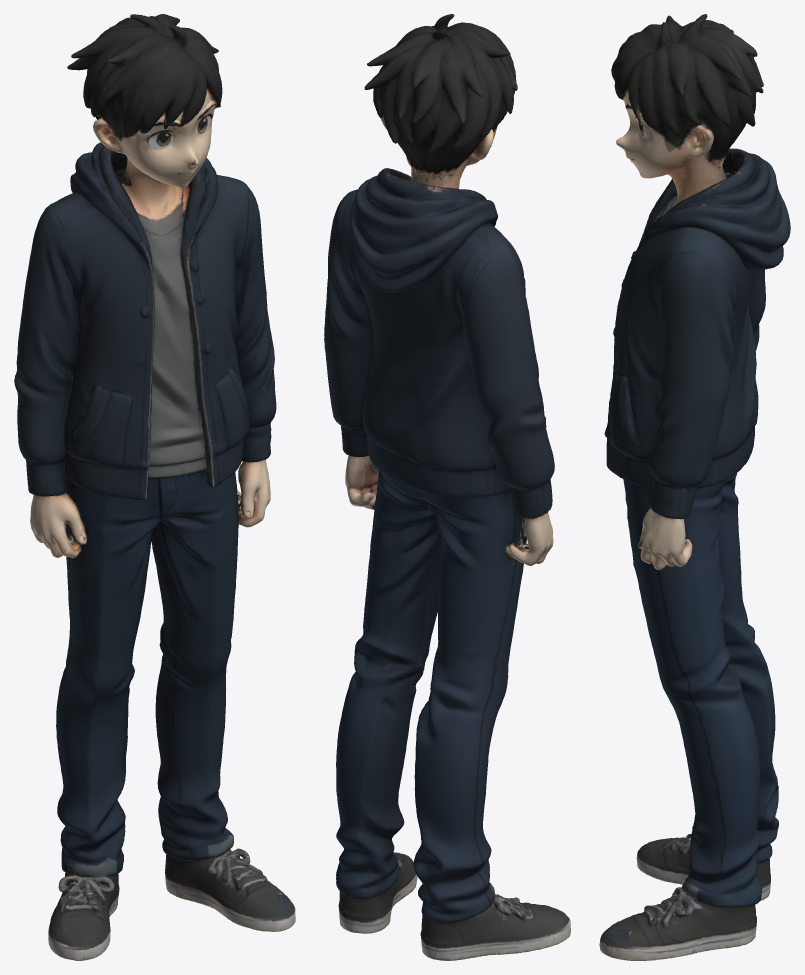
3 views of the same model, side by side, from view 1: azimuth 30°, elevation 25°; view 2: azimuth 150°, elevation 25°; view 3: azimuth 270°, elevation 25° (orthographic).
Bounding box in the file's own units: 0.5143 × 1.9 × 0.3711.
Materials: 1 (1 with a texture image).
